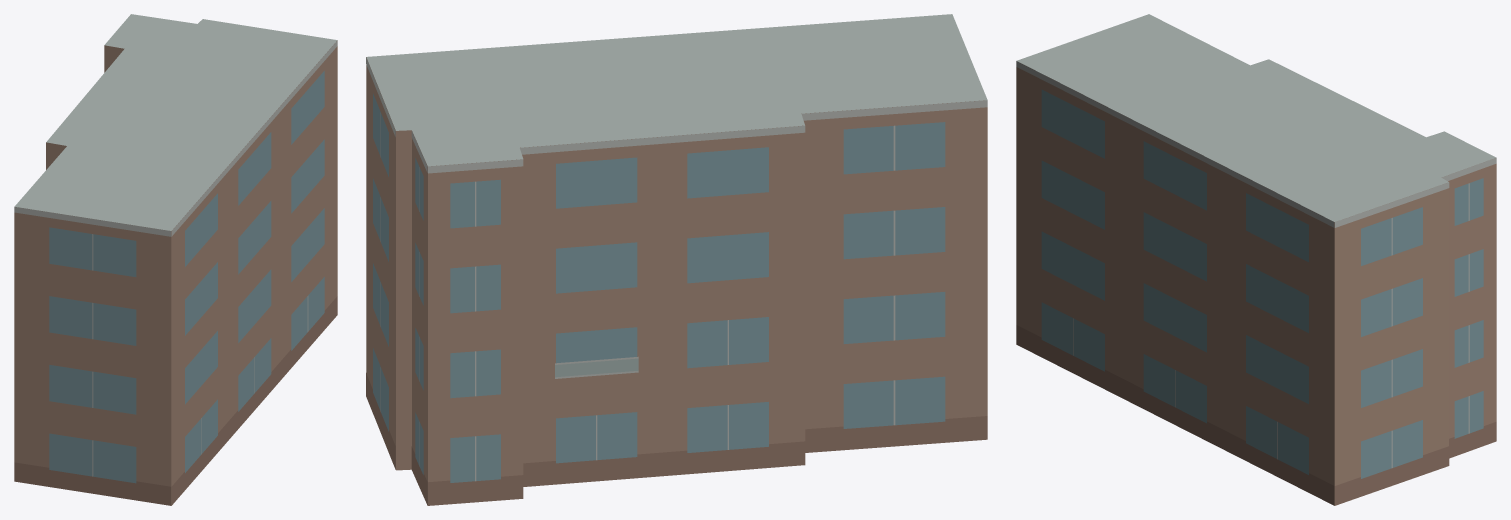
File: survey-upis-32988394.glb
3 views of the same model, side by side, from view 1: azimuth 30°, elevation 25°; view 2: azimuth 150°, elevation 25°; view 3: azimuth 270°, elevation 25° (orthographic). The views are drawn at different scales.
Parts seen in each view (by area): view 1: survey-upis-32988394.tmp; view 2: survey-upis-32988394.tmp; view 3: survey-upis-32988394.tmp.
Part boxes in pixels (x1=…): survey-upis-32988394.tmp: x1=14, y1=14, x2=337, y2=505; survey-upis-32988394.tmp: x1=366, y1=14, x2=987, y2=505; survey-upis-32988394.tmp: x1=1016, y1=14, x2=1496, y2=505.
Bounding box in the file's own units: 18.26 × 11.6 × 17.8.
